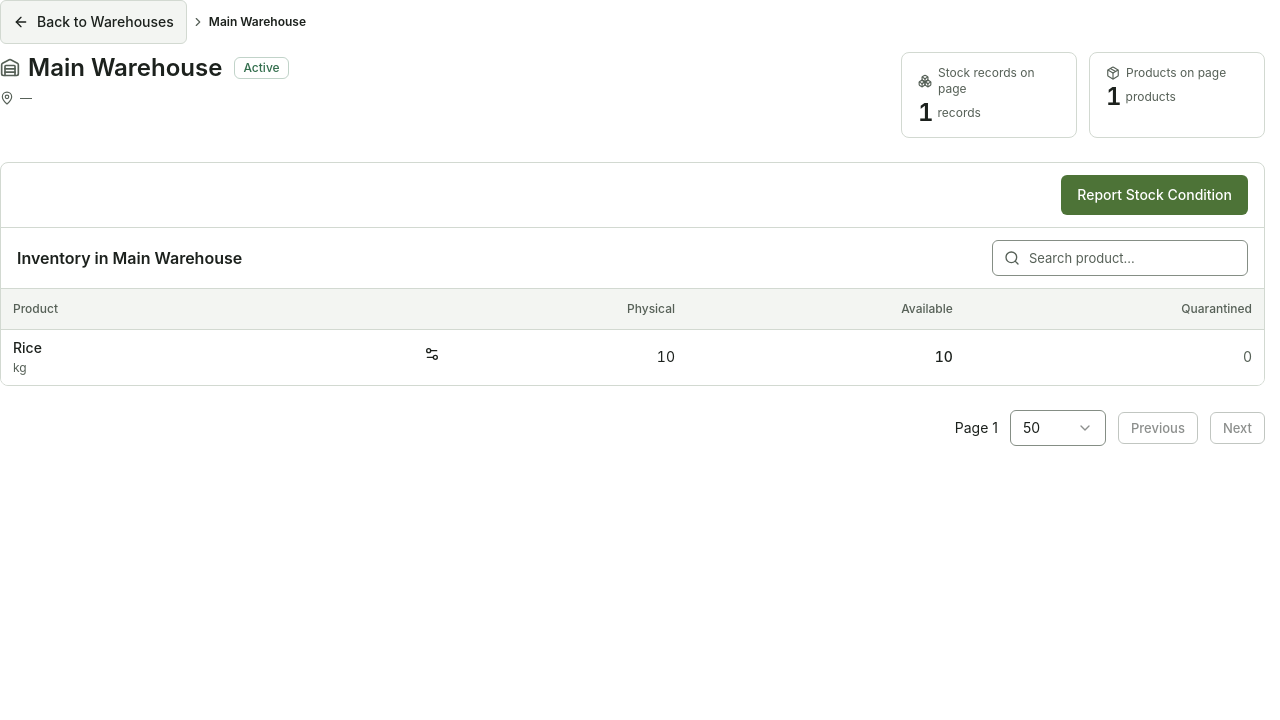
Scenario: opens the existing reorder settings from the mounted warehouse inventory and saves exact thresholds
Click the button named "Stock Alert Settings for Rice": (432, 354) [416,338,448,370]
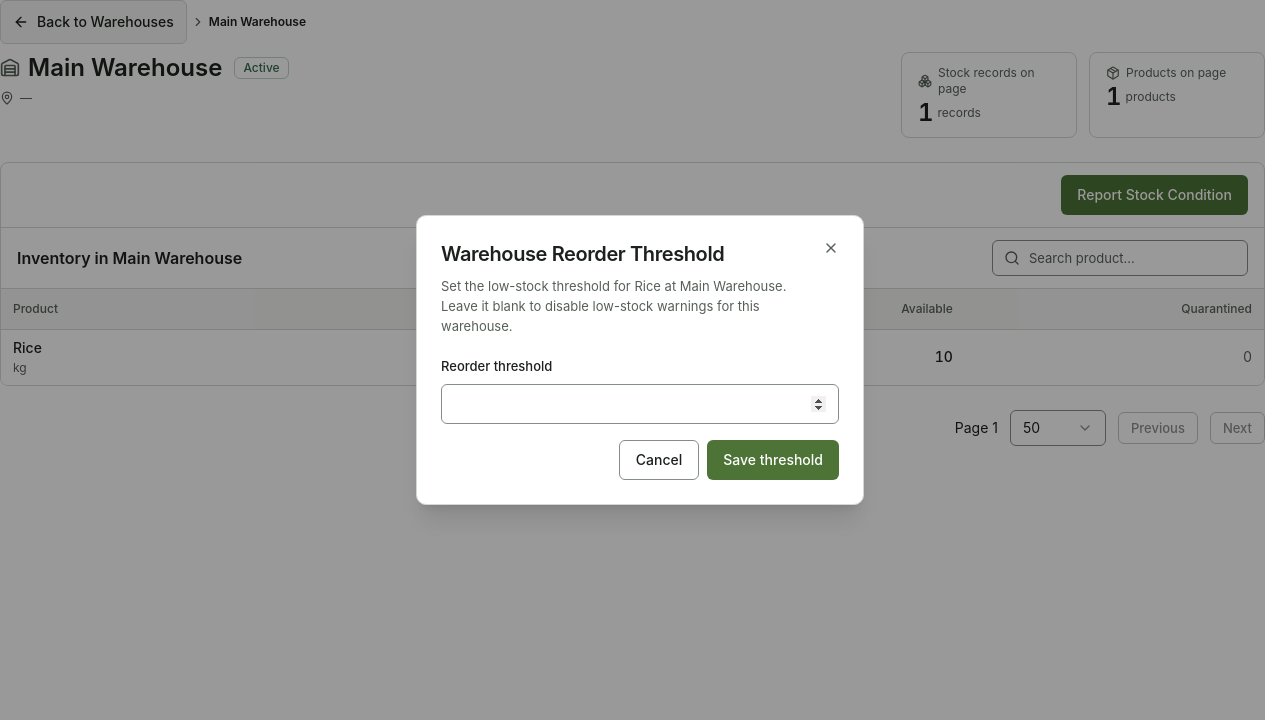
Now the heading "Warehouse Reorder Threshold" is shown, box [441,242,724,266]
In the number field labelled "Reorder threshold": (640, 404) [441,384,839,424], type "2.25"
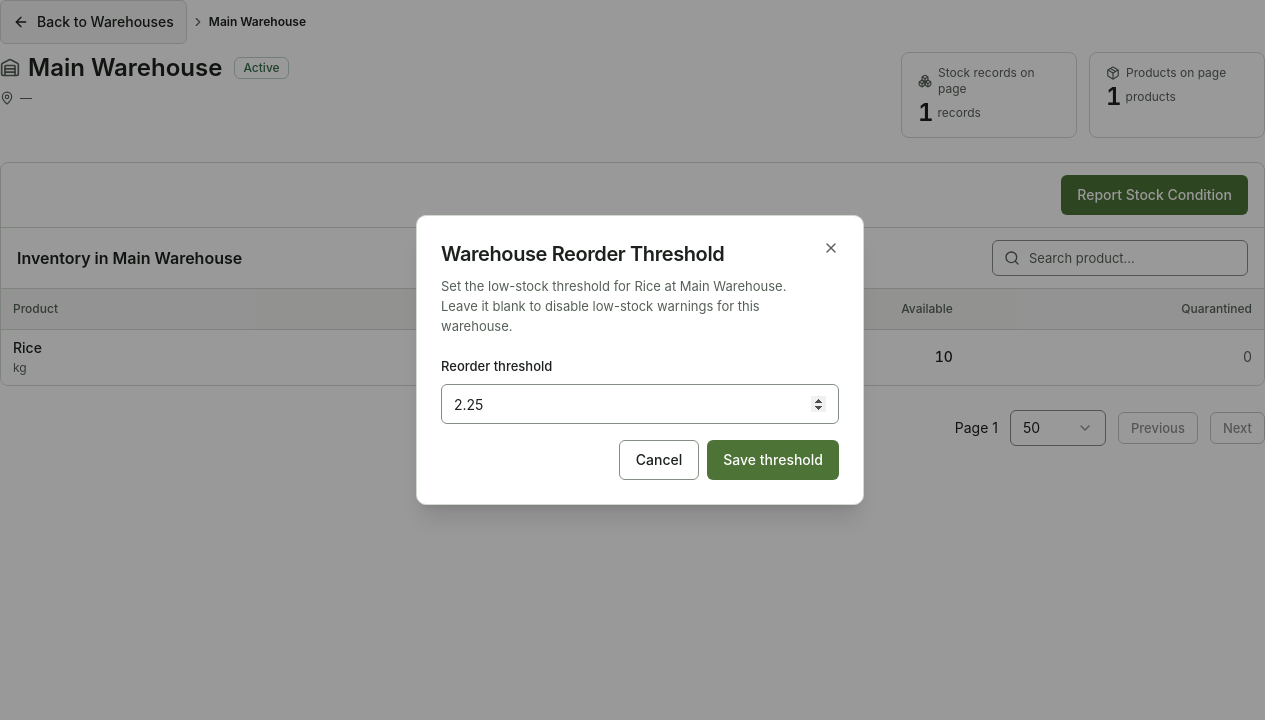
Submit the form labelled "Reorder threshold", box [441,356,839,480]
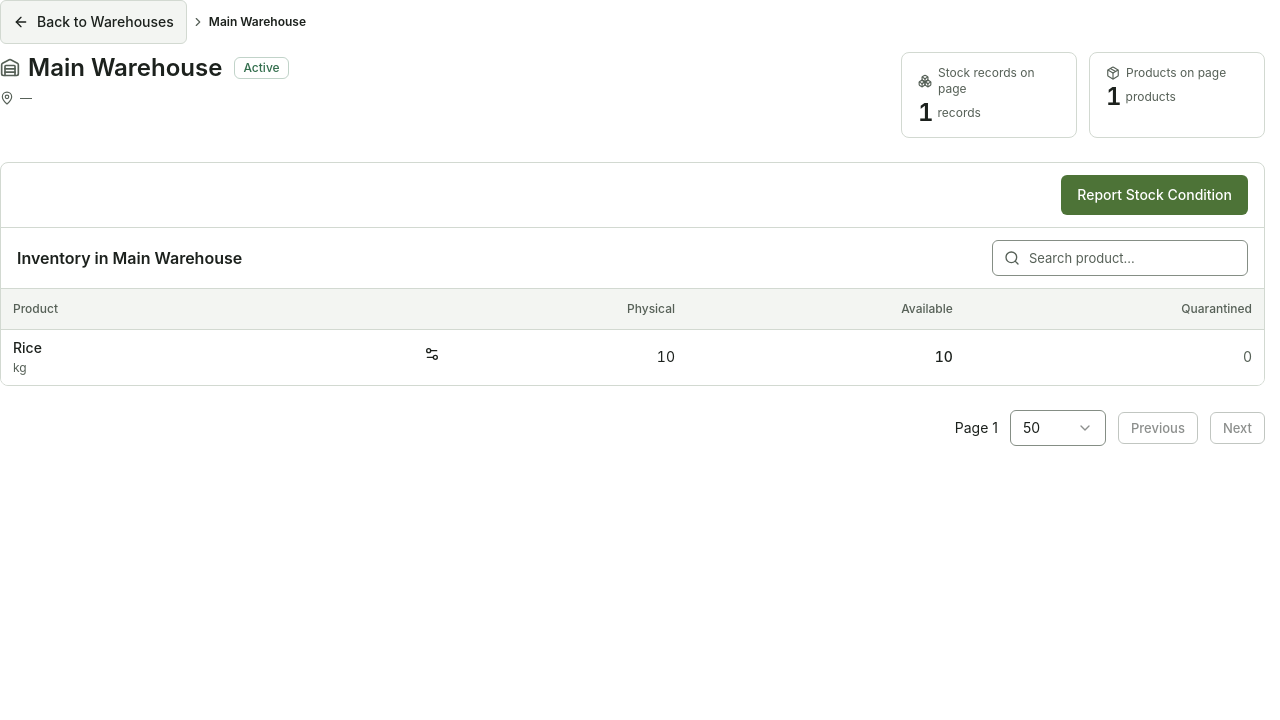
Now the dialog is gone
Click the button named "Stock Alert Settings for Rice": (432, 354) [416,338,448,370]
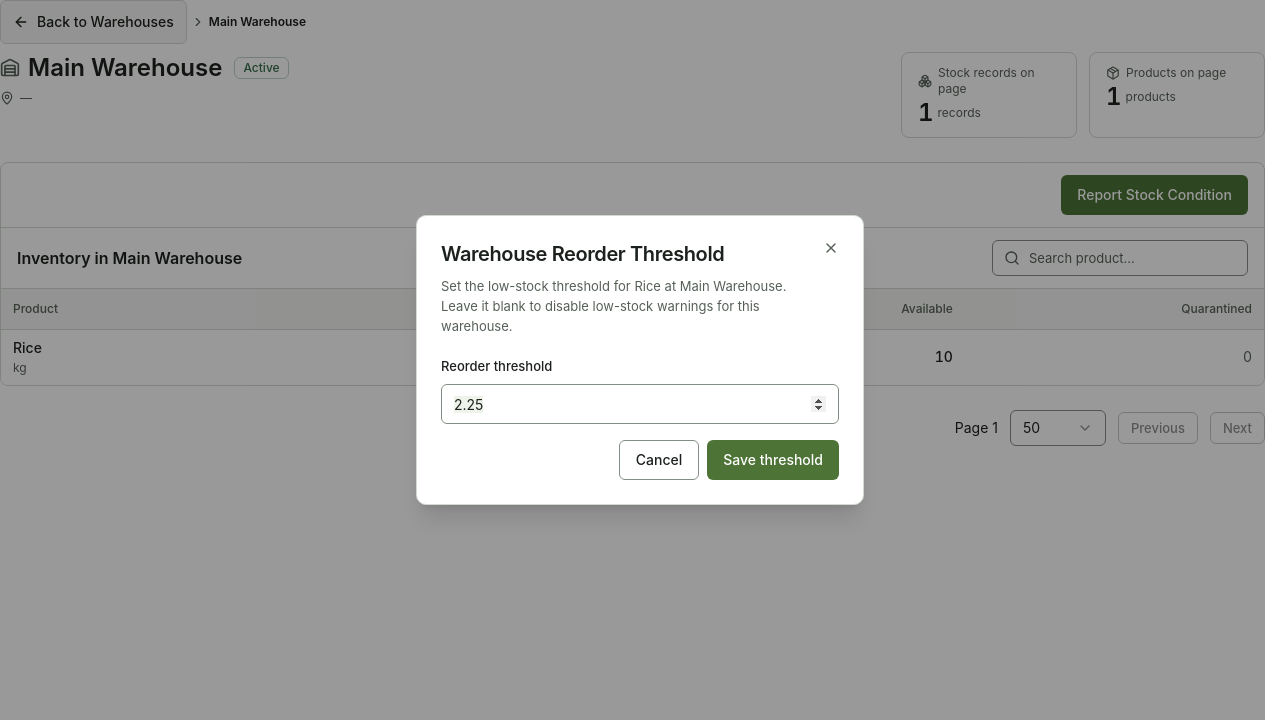
Now the number field labelled "Reorder threshold" holds "2.25", box [441,384,839,424]
